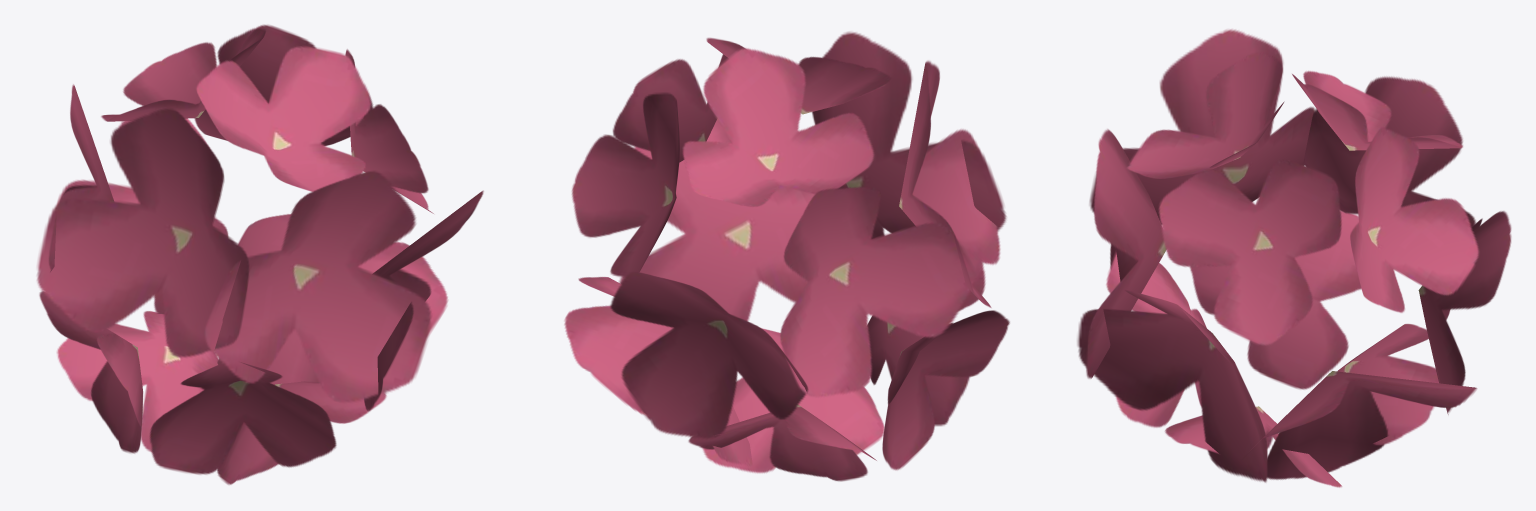
Rendered from qn_petal.glb.
3 views of the same model, side by side, from view 1: azimuth 30°, elevation 25°; view 2: azimuth 150°, elevation 25°; view 3: azimuth 270°, elevation 25° (orthographic). The views are drawn at different scales.
Parts seen in each view (by area): view 1: Petals_1.001; view 2: Petals_1.001; view 3: Petals_1.001.
Part boxes in pixels (box(x1,y1,x2,y2)): Petals_1.001: box(37, 24, 483, 484); Petals_1.001: box(564, 31, 1009, 481); Petals_1.001: box(1077, 29, 1511, 487).
Bounding box in the file's own units: 0.6773 × 0.6559 × 0.6358.
Materials: 1 (1 with a texture image).
